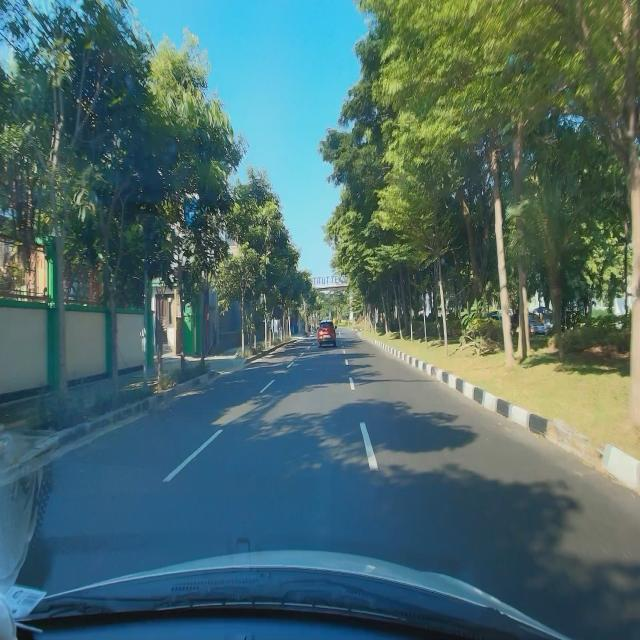car: (316, 318, 337, 348)
